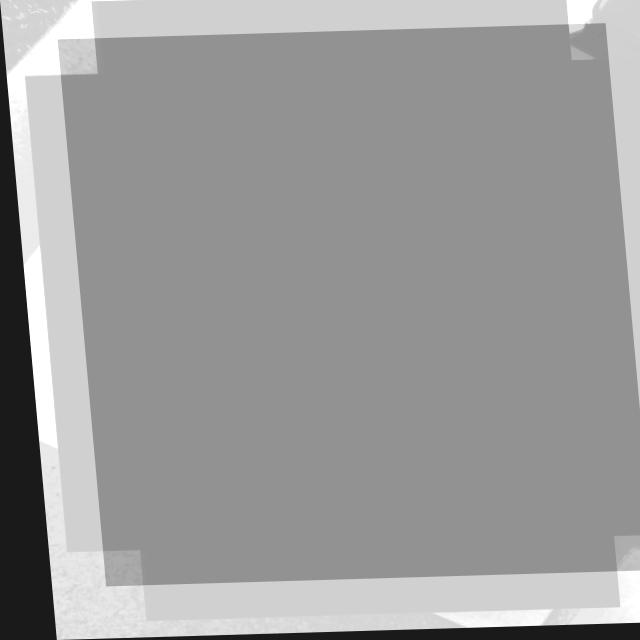qr_code: (57, 27, 640, 587)
